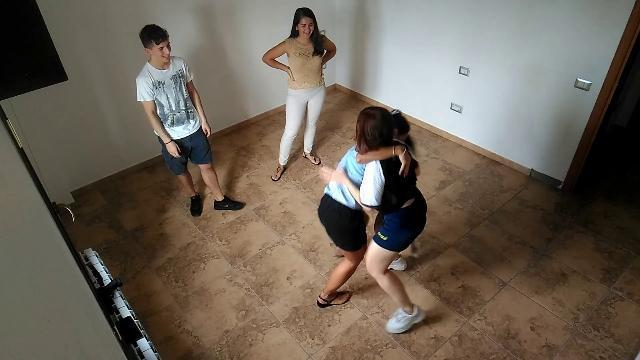non-violence: (133, 22, 247, 220), (260, 5, 340, 183)
violence: (314, 105, 430, 336)
